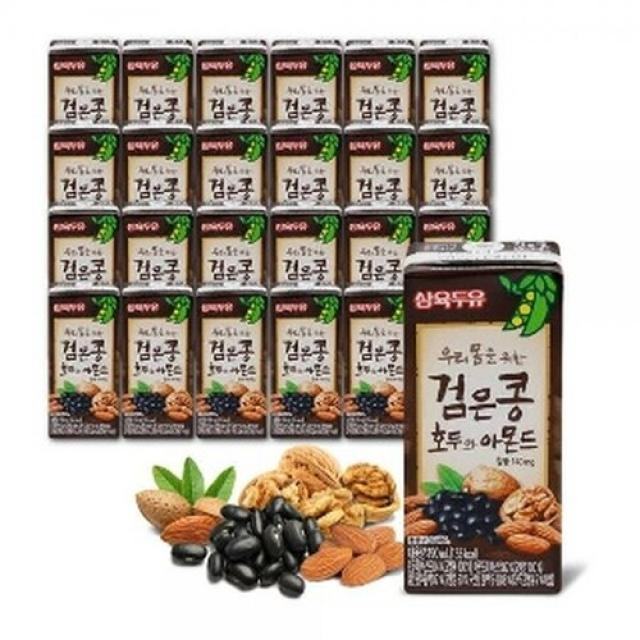Tetra: (397, 237, 585, 605)
